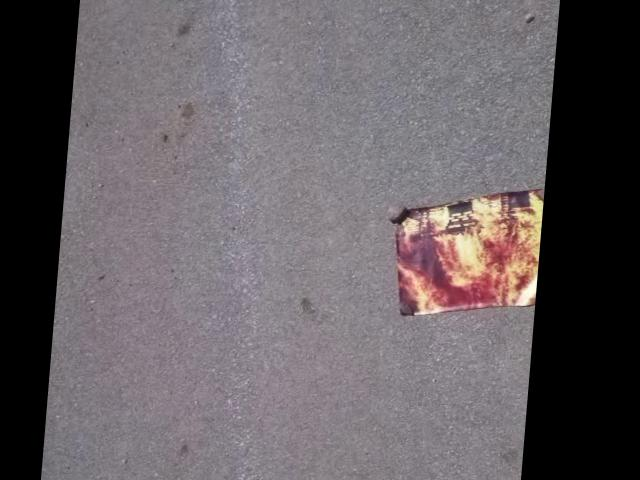fire-poster: (387, 186, 547, 319)
